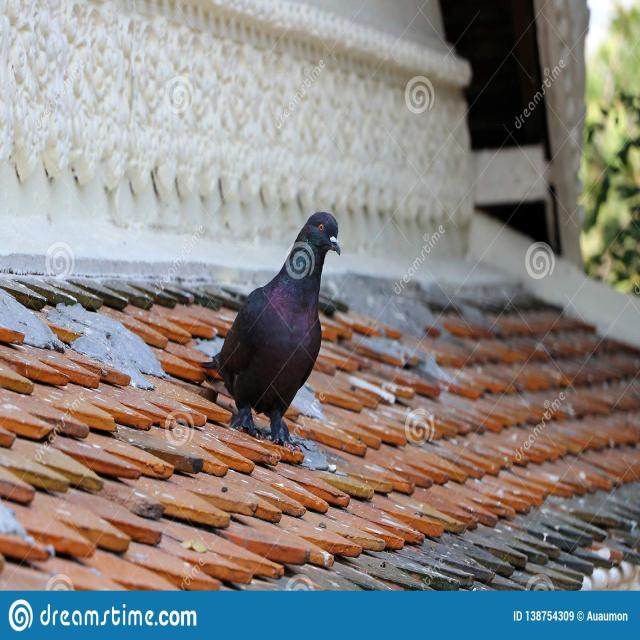bird: (216, 210, 343, 442)
